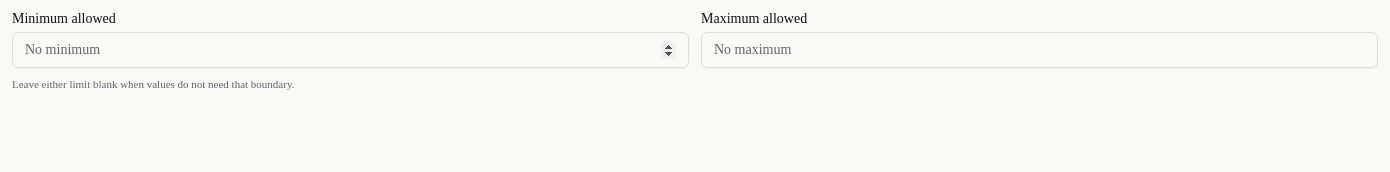
Test case: keeps numeric limits optional and explains an invalid range
In the number field labelled "Minimum allowed": point(350, 50) [12,32,689,68], type "50"
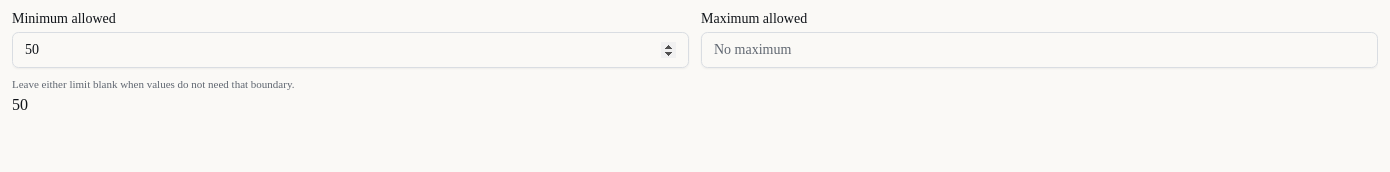
In the number field labelled "Maximum allowed": point(1040, 50) [701,32,1378,68], type "20"
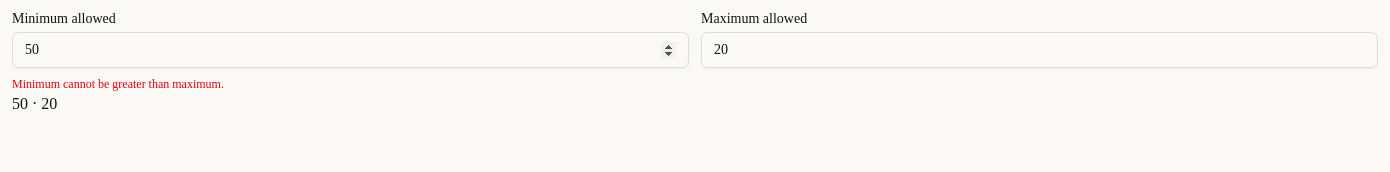
Result: the message reads "Minimum cannot be greater than maximum." at [12,77,224,91]
